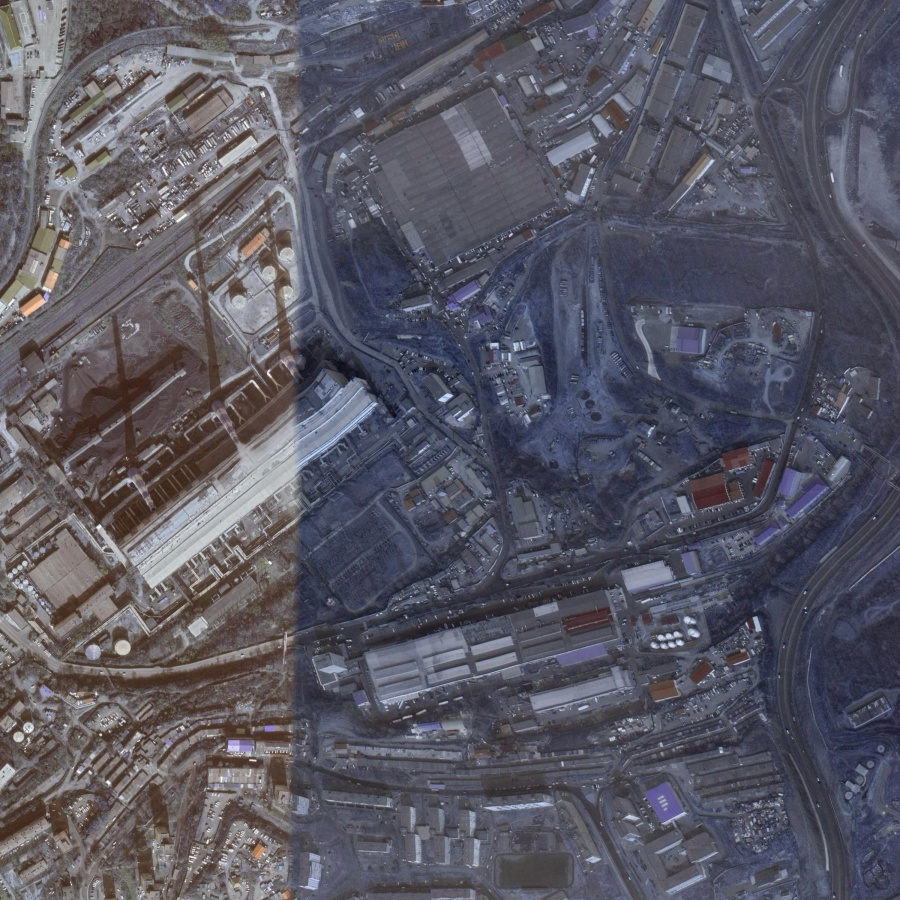PowerPlant: (46, 223, 374, 591)
